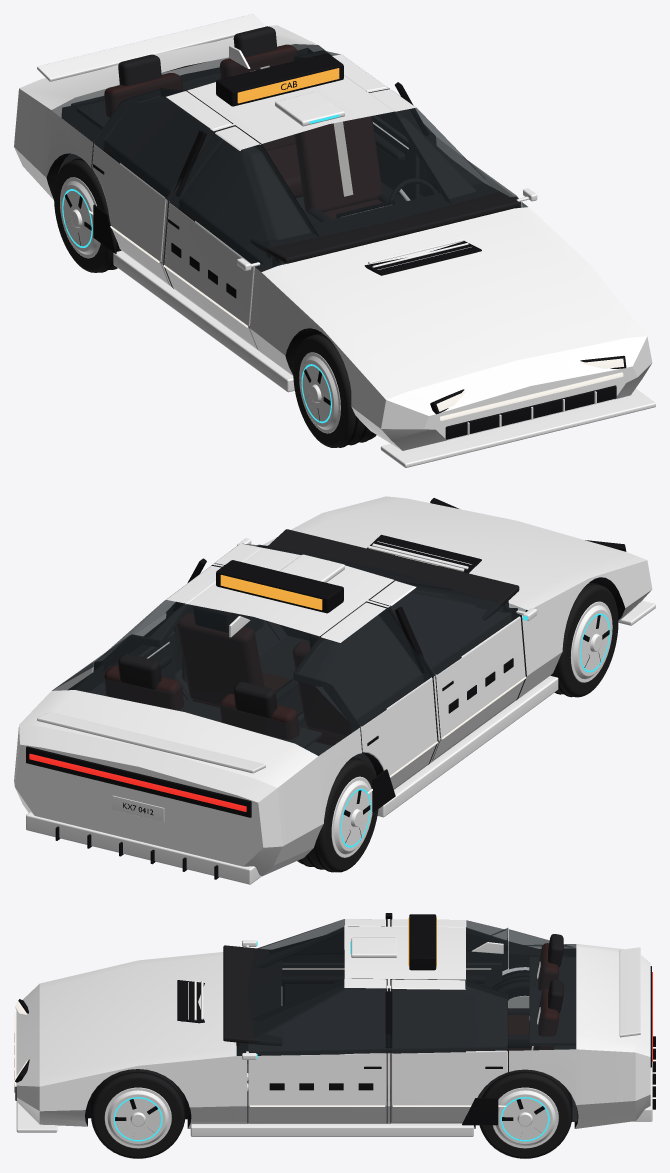
The model's file is car_cab.glb.
3 views of the same model, one above another, from view 1: azimuth 30°, elevation 25°; view 2: azimuth 150°, elevation 25°; view 3: azimuth 270°, elevation 25° (orthographic). The views are drawn at different scales.
Parts seen in each view (by area): view 1: body, door_FR, door_RR, dash_top, seat_back, door_FL, splitter, spoiler, skirt, tire.001, cab_sign, tire.003 (+17 smaller); view 2: body, door_RR, door_FR, dash_top, seat_back, diffuser, skirt, door_RL, tail_panel, spoiler, tire.001, cab_sign (+20 smaller); view 3: body, door_FL, door_RL, dash_top, skirt.001, tire, door_FR, tire.002, rear_shelf, aero_cover, aero_cover.002, spoiler (+18 smaller).
Boxes of the visible parts, <box> form: body: <box>14,25,652,450</box>; door_FR: <box>164,126,317,351</box>; door_RR: <box>92,89,231,286</box>; dash_top: <box>250,183,519,263</box>; seat_back: <box>294,116,382,212</box>; door_FL: <box>369,89,521,208</box>; splitter: <box>380,388,655,467</box>; spoiler: <box>37,14,265,81</box>; skirt: <box>113,250,294,392</box>; tire.001: <box>293,333,376,447</box>; cab_sign: <box>216,53,343,106</box>; tire.003: <box>54,158,121,272</box>; body: <box>14,496,652,876</box>; door_RR: <box>294,602,437,789</box>; door_FR: <box>369,580,525,762</box>; dash_top: <box>266,529,519,620</box>; seat_back: <box>177,613,264,705</box>; diffuser: <box>26,812,261,884</box>; skirt: <box>377,675,558,817</box>; door_RL: <box>93,565,220,699</box>; tail_panel: <box>26,746,251,817</box>; spoiler: <box>37,711,265,773</box>; tire.001: <box>550,582,618,697</box>; cab_sign: <box>216,560,343,613</box>; body: <box>16,919,650,1128</box>; door_FL: <box>248,978,386,1123</box>; door_RL: <box>391,979,508,1123</box>; dash_top: <box>223,945,282,1045</box>; skirt.001: <box>190,1123,473,1136</box>; tire: <box>91,1069,184,1158</box>; door_FR: <box>251,919,386,967</box>; tire.002: <box>480,1064,571,1158</box>; rear_shelf: <box>529,957,576,1045</box>; aero_cover: <box>107,1090,168,1145</box>; aero_cover.002: <box>496,1090,555,1145</box>; spoiler: <box>619,947,640,1037</box>.
Bounding box in the file's own units: 2.03 × 1.4 × 4.76.
